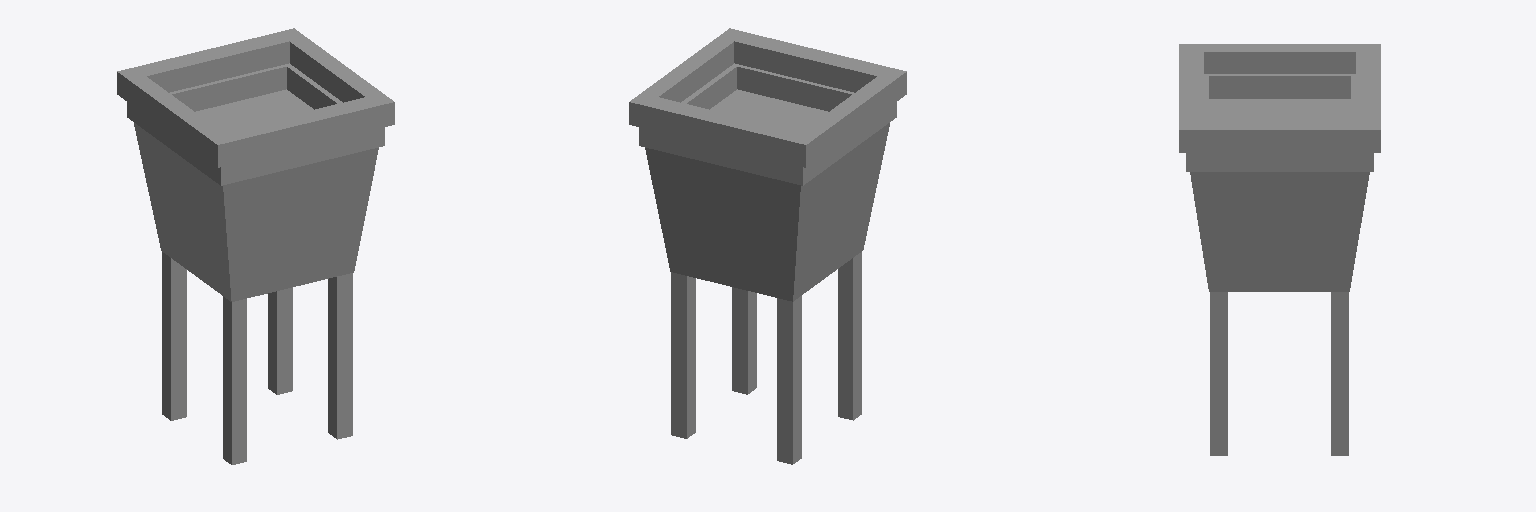
Rendered from leaf_mulcher.obj.
3 renders of one model, left to right at view 1: azimuth 30°, elevation 25°; view 2: azimuth 150°, elevation 25°; view 3: azimuth 270°, elevation 25°, orthographic.
Visible parts, largest first — view 1: Cube.004; view 2: Cube.004; view 3: Cube.004.
Boxes of the visible parts, box(x1,y1,x2,y2) form: Cube.004: box(117, 28, 394, 464); Cube.004: box(629, 28, 906, 464); Cube.004: box(1179, 44, 1380, 455).
Bounding box in the file's own units: 1.13 × 2.07 × 1.12.